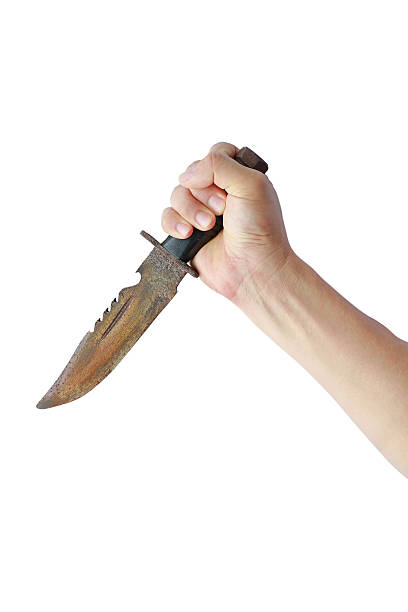knife: (33, 213, 224, 413)
